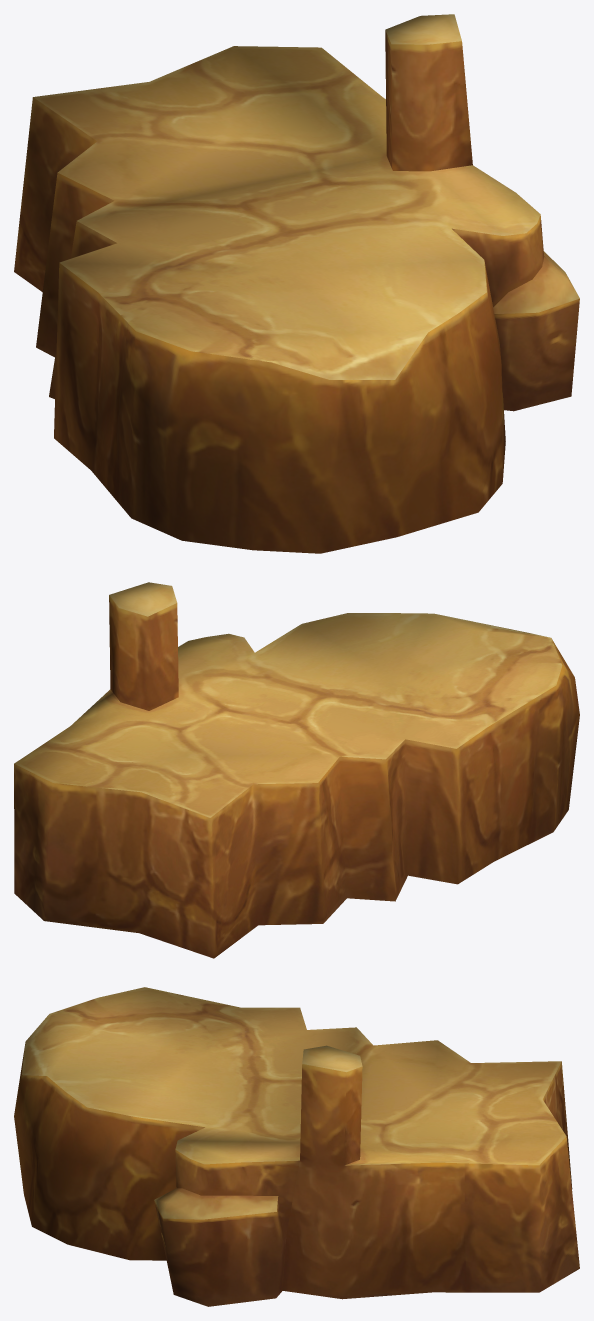
Rendered from Stage_ShaMo_ShanShi15.FBX.
3 views of the same model, one above another, from view 1: azimuth 30°, elevation 25°; view 2: azimuth 150°, elevation 25°; view 3: azimuth 270°, elevation 25° (orthographic). The views are drawn at different scales.
Visible parts, largest first — view 1: Stage_ShaMo_ShanShi15; view 2: Stage_ShaMo_ShanShi15; view 3: Stage_ShaMo_ShanShi15.
Boxes of the visible parts, bbox=[...] form: Stage_ShaMo_ShanShi15: bbox=[14, 14, 579, 553]; Stage_ShaMo_ShanShi15: bbox=[14, 582, 579, 958]; Stage_ShaMo_ShanShi15: bbox=[14, 987, 579, 1306].
Bounding box in the file's own units: 1461 × 898 × 2001.
